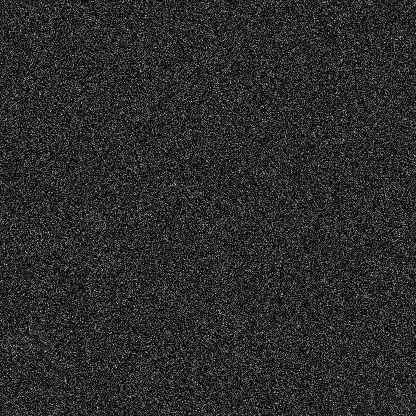Ring: (48, 376, 72, 400), (80, 209, 104, 233), (370, 261, 394, 285), (351, 140, 375, 164), (135, 364, 159, 388), (218, 312, 242, 336), (114, 91, 138, 115), (4, 331, 28, 355), (23, 327, 47, 351)
Spot: (14, 220, 30, 236), (152, 70, 168, 86), (16, 242, 32, 258), (203, 30, 219, 46), (59, 356, 75, 372), (215, 259, 231, 275)
